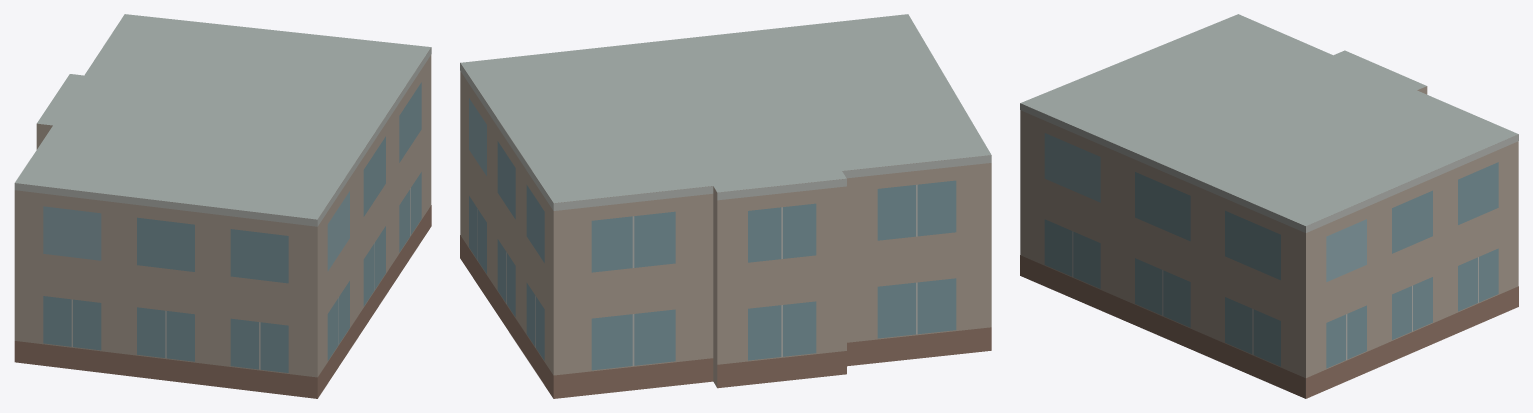
Rendered from survey-upis-32914472.glb.
The picture shows the model from 3 angles, left to right: view 1: azimuth 30°, elevation 25°; view 2: azimuth 150°, elevation 25°; view 3: azimuth 270°, elevation 25°; orthographic projection. The views are drawn at different scales.
Visible parts, largest first — view 1: survey-upis-32914472.tmp; view 2: survey-upis-32914472.tmp; view 3: survey-upis-32914472.tmp.
Part boxes in pixels (x1=…): survey-upis-32914472.tmp: x1=14, y1=14, x2=431, y2=398; survey-upis-32914472.tmp: x1=460, y1=14, x2=991, y2=398; survey-upis-32914472.tmp: x1=1020, y1=14, x2=1518, y2=398.
Size of the model in its own units: 16.1 by 6.1 by 15.98.
